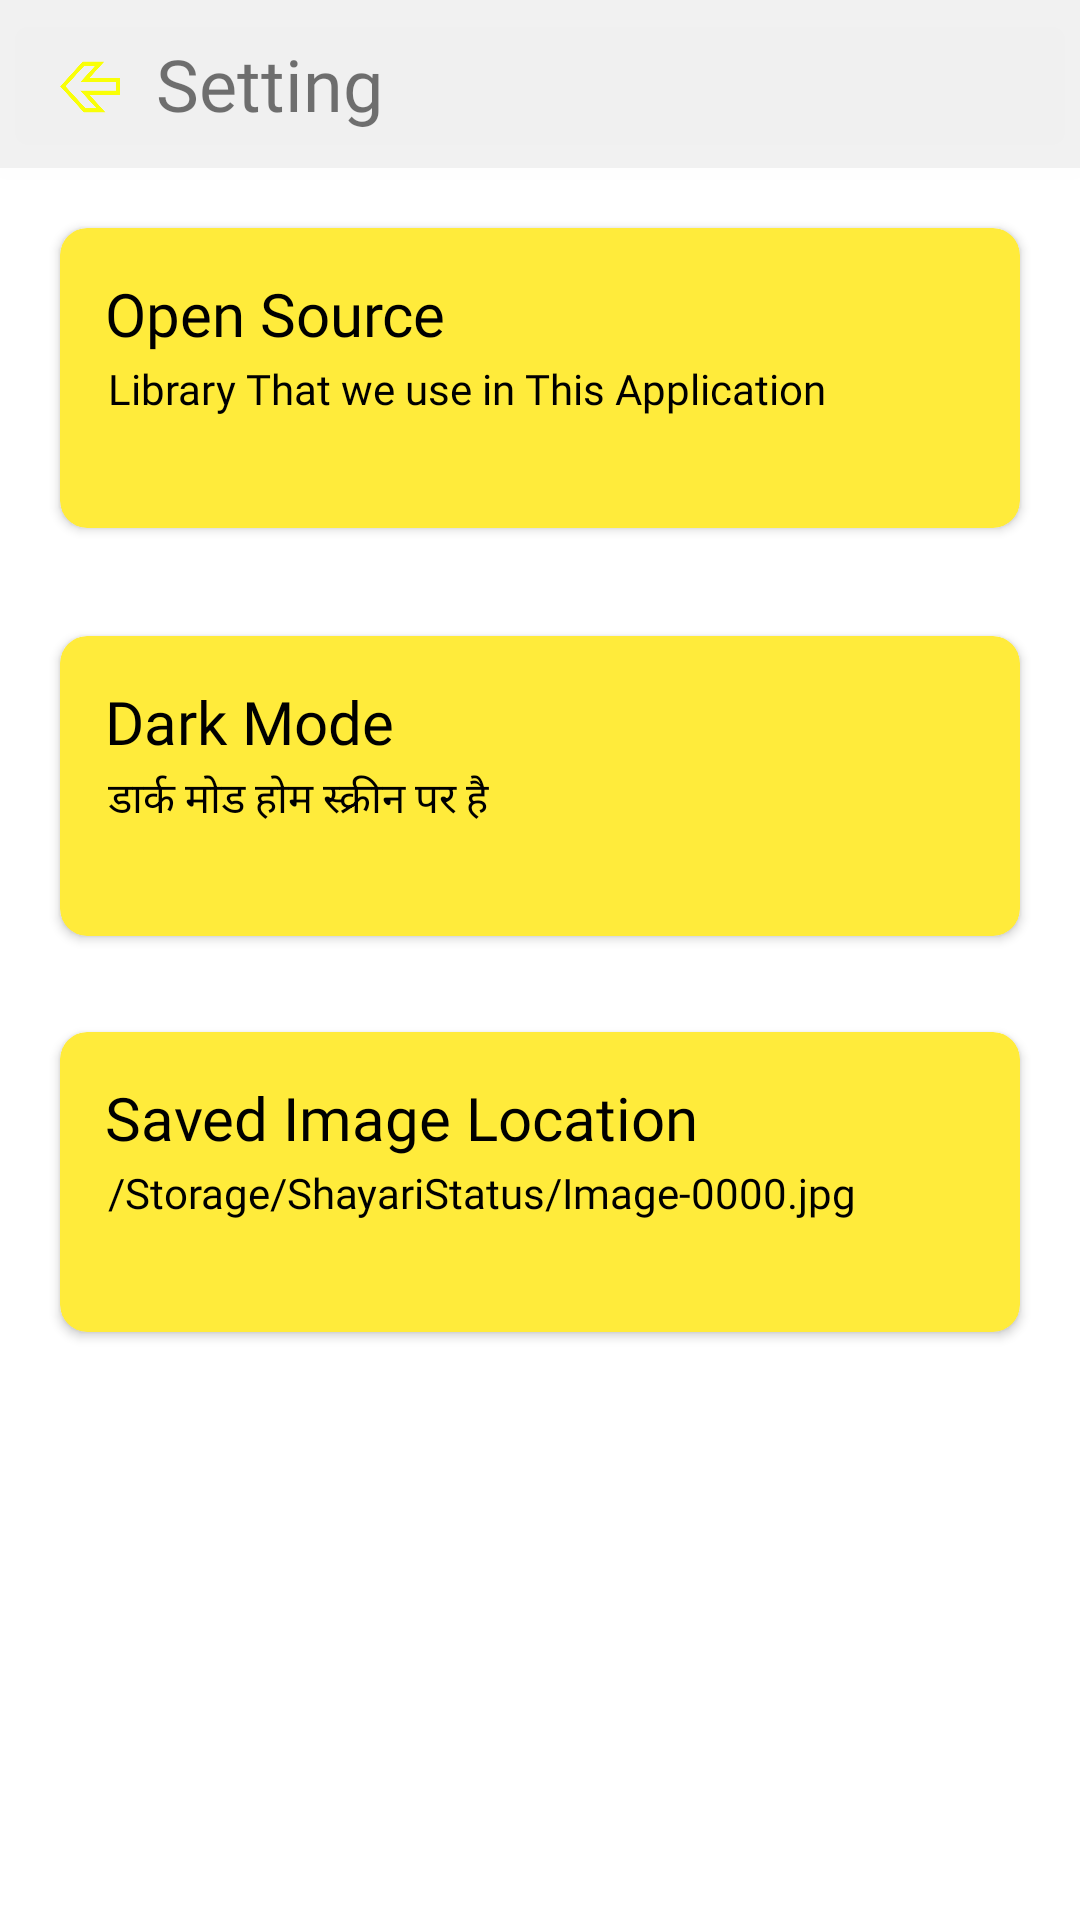

Named icons in this screenshot (1080x1920) and their centers, (x=x, y=y):
back: (x=90, y=87)
